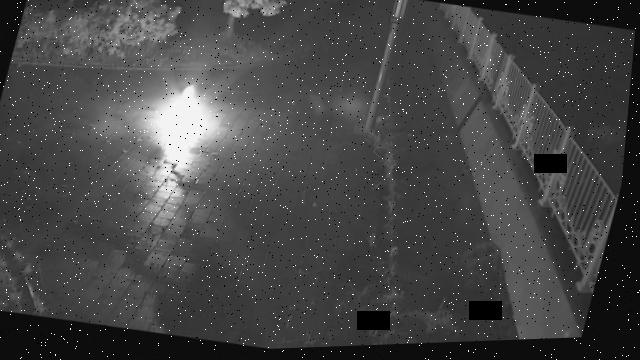fire: (135, 79, 226, 171)
